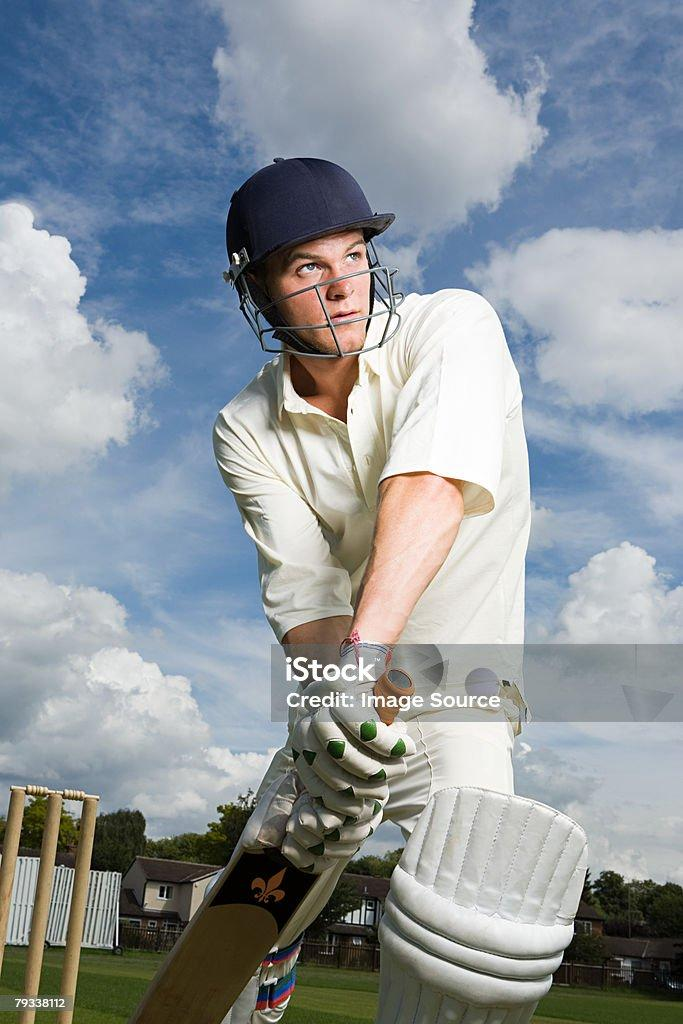batsman: (114, 132, 636, 1014)
